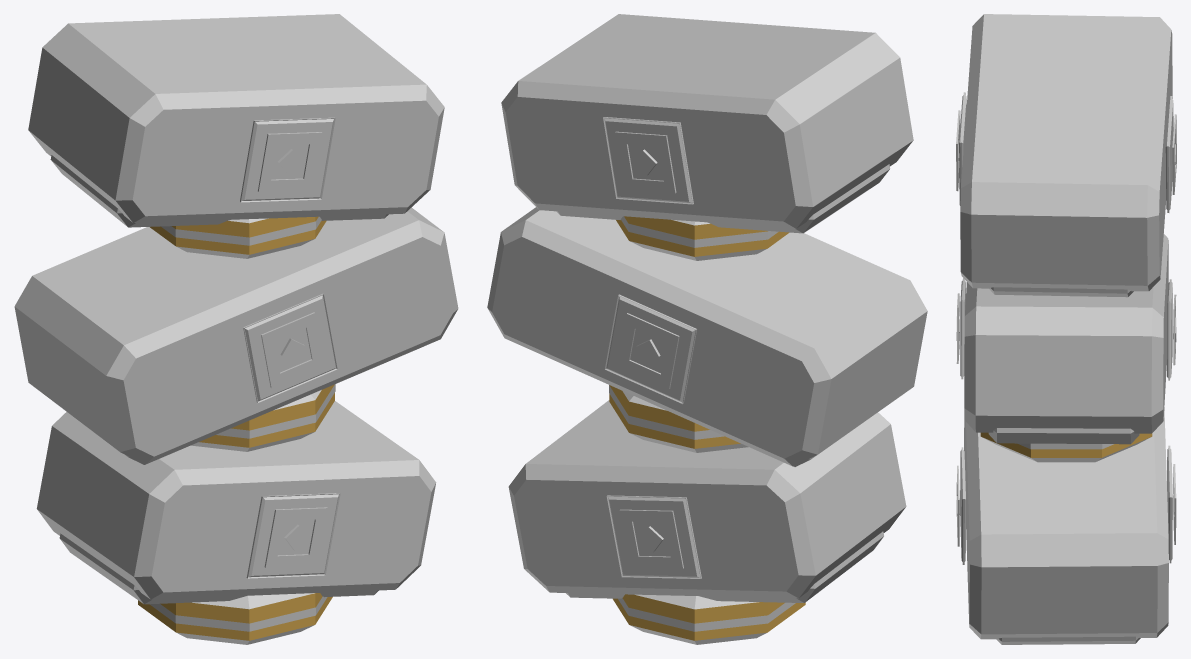
Rendered from wand_motion_14.obj.
3 renders of one model, left to right at view 1: azimuth 30°, elevation 25°; view 2: azimuth 150°, elevation 25°; view 3: azimuth 270°, elevation 25°, orthographic. The views are drawn at different scales.
Parts seen in each view (by area): view 1: chamfered_seal_tablet_2, chamfered_seal_tablet_1, chamfered_seal_tablet_0, tablet_spacer_0, inset_rune_socket_5, inset_rune_socket_3, inset_rune_socket_1, tablet_spacer_2, tablet_spacer_1, seal_shadow_base_0, seal_shadow_base_2, tablet_spacer_dark_seam_0 (+2 smaller); view 2: chamfered_seal_tablet_2, chamfered_seal_tablet_1, chamfered_seal_tablet_0, tablet_spacer_0, inset_rune_socket_0, inset_rune_socket_2, inset_rune_socket_4, tablet_spacer_2, tablet_spacer_1, seal_shadow_base_2, seal_shadow_base_0, tablet_spacer_dark_seam_0 (+2 smaller); view 3: chamfered_seal_tablet_2, chamfered_seal_tablet_0, chamfered_seal_tablet_1, seal_shadow_base_1, tablet_spacer_1, seal_shadow_base_2, seal_shadow_base_0, inset_rune_socket_4, inset_rune_socket_1, inset_rune_socket_0, inset_rune_socket_2, tablet_spacer_dark_seam_1 (+2 smaller).
Part boxes in pixels (x1=…): chamfered_seal_tablet_2: x1=28, y1=14, x2=444, y2=222; chamfered_seal_tablet_1: x1=14, y1=207, x2=458, y2=464; chamfered_seal_tablet_0: x1=36, y1=401, x2=436, y2=599; tablet_spacer_0: x1=138, y1=593, x2=332, y2=644; inset_rune_socket_5: x1=240, y1=117, x2=335, y2=202; inset_rune_socket_3: x1=243, y1=293, x2=337, y2=402; inset_rune_socket_1: x1=246, y1=493, x2=340, y2=578; tablet_spacer_2: x1=150, y1=216, x2=326, y2=258; tablet_spacer_1: x1=191, y1=384, x2=334, y2=451; seal_shadow_base_0: x1=59, y1=533, x2=378, y2=604; seal_shadow_base_2: x1=50, y1=155, x2=388, y2=227; tablet_spacer_dark_seam_0: x1=150, y1=596, x2=327, y2=631; chamfered_seal_tablet_2: x1=501, y1=14, x2=913, y2=228; chamfered_seal_tablet_1: x1=487, y1=207, x2=927, y2=466; chamfered_seal_tablet_0: x1=508, y1=400, x2=906, y2=598; tablet_spacer_0: x1=613, y1=594, x2=805, y2=644; inset_rune_socket_0: x1=606, y1=495, x2=701, y2=578; inset_rune_socket_2: x1=605, y1=294, x2=697, y2=403; inset_rune_socket_4: x1=603, y1=117, x2=693, y2=204; tablet_spacer_2: x1=616, y1=216, x2=789, y2=260; tablet_spacer_1: x1=609, y1=385, x2=748, y2=452; seal_shadow_base_2: x1=556, y1=164, x2=890, y2=233; seal_shadow_base_0: x1=566, y1=531, x2=883, y2=602; tablet_spacer_dark_seam_0: x1=618, y1=598, x2=795, y2=631; chamfered_seal_tablet_2: x1=960, y1=14, x2=1172, y2=291; chamfered_seal_tablet_0: x1=964, y1=407, x2=1168, y2=639; chamfered_seal_tablet_1: x1=964, y1=234, x2=1168, y2=433; seal_shadow_base_1: x1=988, y1=428, x2=1139, y2=444; tablet_spacer_1: x1=980, y1=432, x2=1152, y2=462; seal_shadow_base_2: x1=989, y1=287, x2=1133, y2=297; seal_shadow_base_0: x1=996, y1=636, x2=1140, y2=644; inset_rune_socket_4: x1=1165, y1=96, x2=1173, y2=212; inset_rune_socket_1: x1=960, y1=447, x2=965, y2=564; inset_rune_socket_0: x1=1167, y1=445, x2=1172, y2=563; inset_rune_socket_2: x1=1167, y1=279, x2=1172, y2=380; tablet_spacer_dark_seam_1: x1=1018, y1=443, x2=1113, y2=449.
Size of the model in its own units: 0.1966 by 0.3097 by 0.1145.
